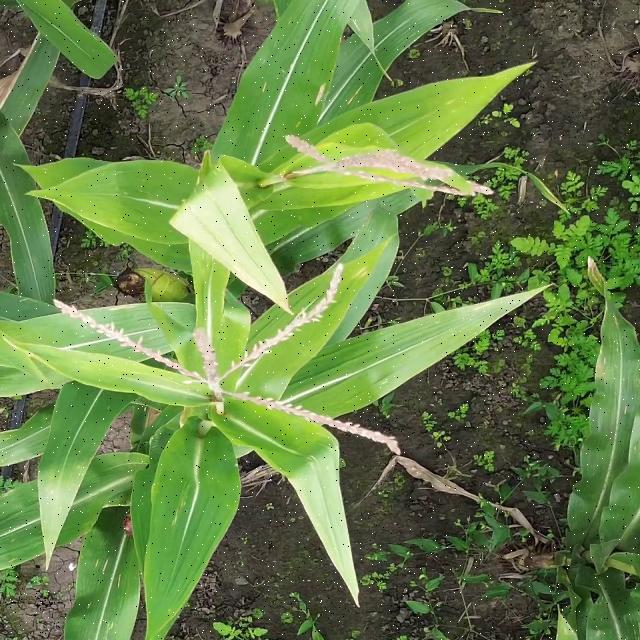gray-leaf-spot: (78, 550, 132, 631), (257, 70, 333, 109), (600, 592, 640, 640)
southern-leaf-blight: (598, 324, 638, 418), (100, 163, 184, 204), (35, 465, 82, 525)
